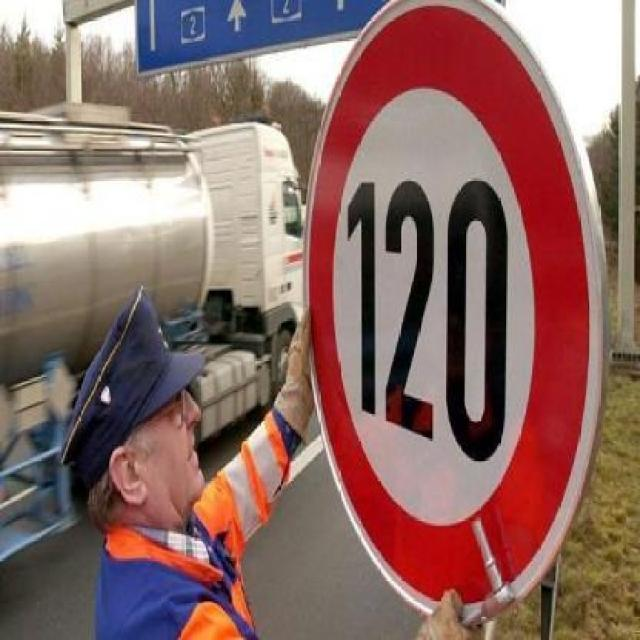forb_speed_over_120: (307, 7, 593, 616)
